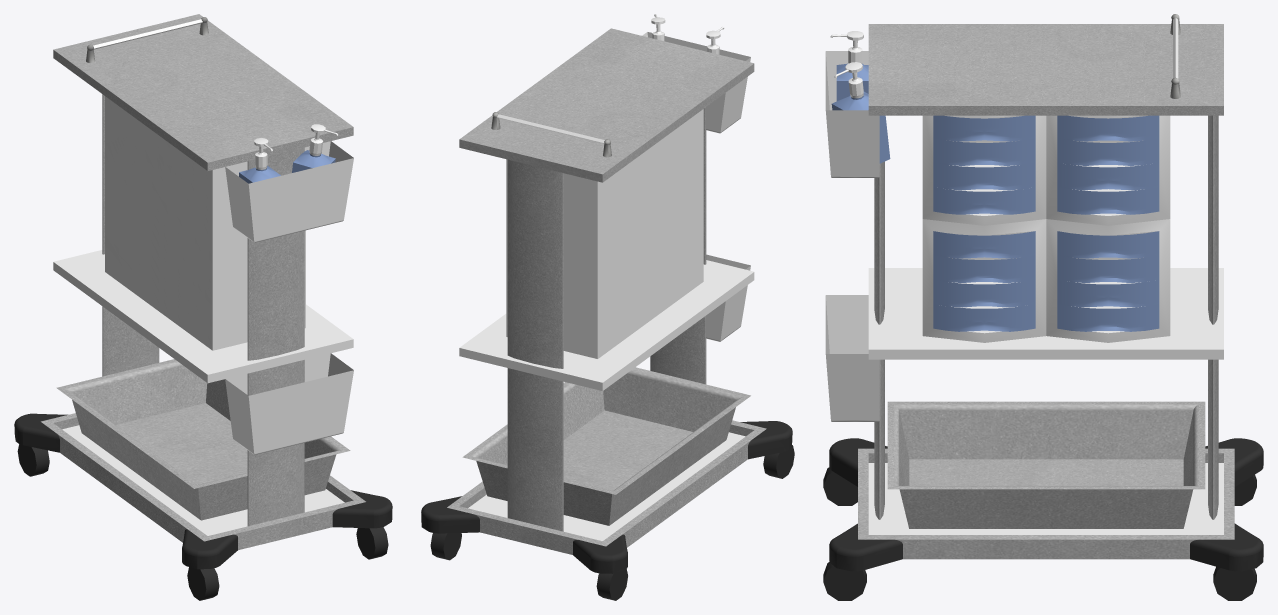
File: garbage_drawer.FBX
The picture shows the model from 3 angles, left to right: view 1: azimuth 30°, elevation 25°; view 2: azimuth 150°, elevation 25°; view 3: azimuth 270°, elevation 25°; orthographic projection. The views are drawn at different scales.
Visible parts, largest first — view 1: object_31; view 2: object_31; view 3: object_31.
Part boxes in pixels (bbox=[...]): object_31: bbox=[14, 14, 392, 600]; object_31: bbox=[421, 14, 794, 600]; object_31: bbox=[823, 14, 1263, 600].
Size of the model in its own units: 50.73 by 104 by 81.82.
5 materials, 2 textured.
